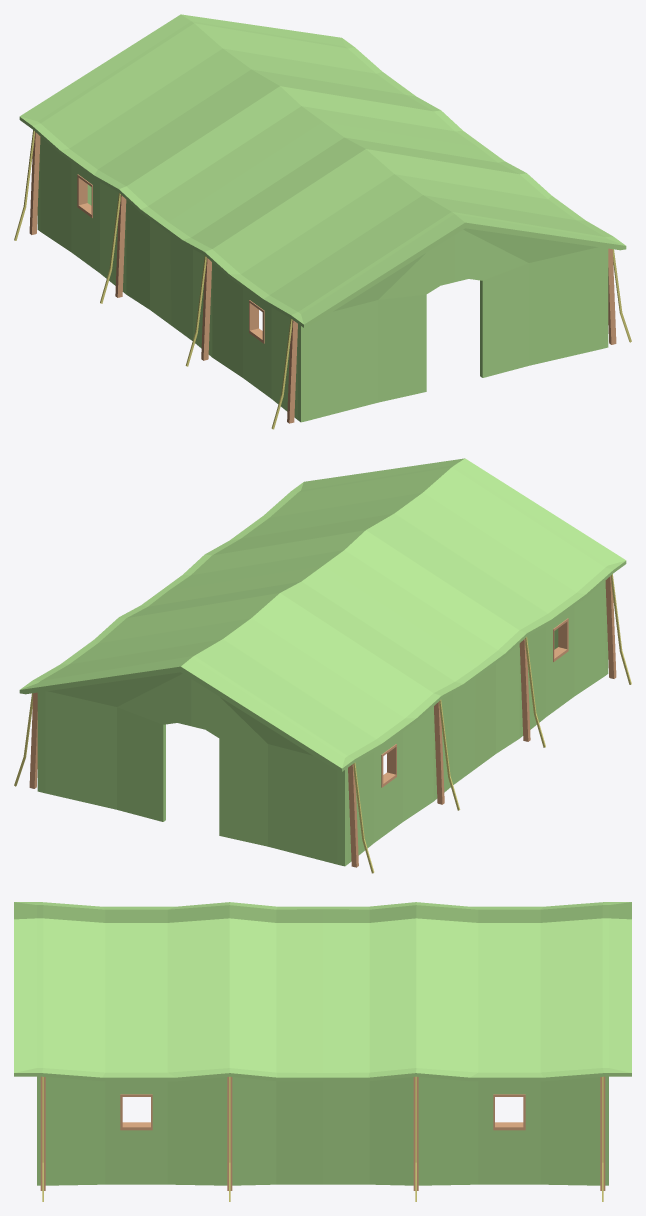
File: tent1.fbx
The picture shows the model from 3 angles, top to bottom: view 1: azimuth 30°, elevation 25°; view 2: azimuth 150°, elevation 25°; view 3: azimuth 270°, elevation 25°; orthographic projection. The views are drawn at different scales.
Visible parts, largest first — view 1: Cube.001, Cube; view 2: Cube.001, Cube; view 3: Cube.001, Cube.
Boxes of the visible parts, left/top/right/bottom form: Cube.001: left=19, top=14, right=626, bottom=327; Cube: left=14, top=130, right=631, bottom=429; Cube.001: left=19, top=458, right=626, bottom=771; Cube: left=14, top=574, right=631, bottom=873; Cube.001: left=14, top=902, right=631, bottom=1081; Cube: left=37, top=1076, right=608, bottom=1201.
Bounding box in the file's own units: 943 × 436 × 1292.
